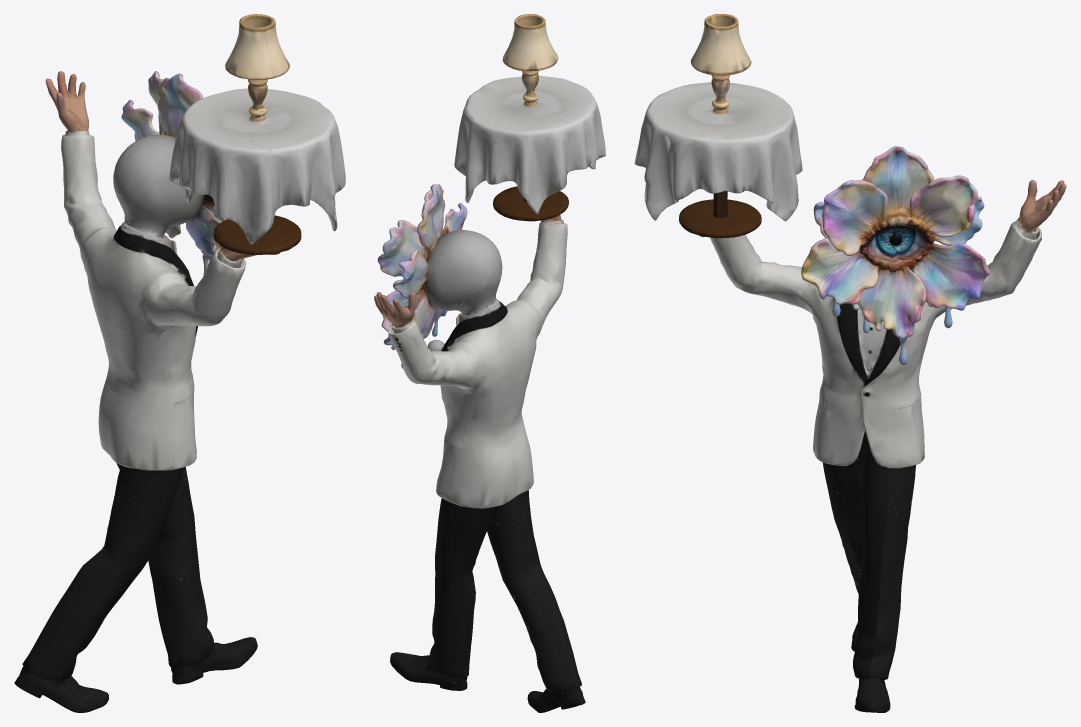
The model's file is npc_maitre.glb.
3 views of the same model, side by side, from view 1: azimuth 30°, elevation 25°; view 2: azimuth 150°, elevation 25°; view 3: azimuth 270°, elevation 25° (orthographic). The views are drawn at different scales.
Parts seen in each view (by area): view 1: tripo_node_05c4fbca-02c4-4de5-b7a4-4f7adf9fef5e; view 2: tripo_node_05c4fbca-02c4-4de5-b7a4-4f7adf9fef5e; view 3: tripo_node_05c4fbca-02c4-4de5-b7a4-4f7adf9fef5e.
Part boxes in pixels (box(x1,y1,x2,y2)): tripo_node_05c4fbca-02c4-4de5-b7a4-4f7adf9fef5e: box(14, 14, 345, 712); tripo_node_05c4fbca-02c4-4de5-b7a4-4f7adf9fef5e: box(374, 14, 605, 712); tripo_node_05c4fbca-02c4-4de5-b7a4-4f7adf9fef5e: box(634, 14, 1066, 712).
Bounding box in the file's own units: 0.3385 × 1 × 0.5836.
Materials: 1 (1 with a texture image).
